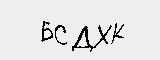Б: (39, 19, 54, 44)
Д: (70, 24, 96, 54)
К: (111, 21, 128, 46)
С: (53, 21, 71, 48)
Х: (93, 20, 112, 51)
